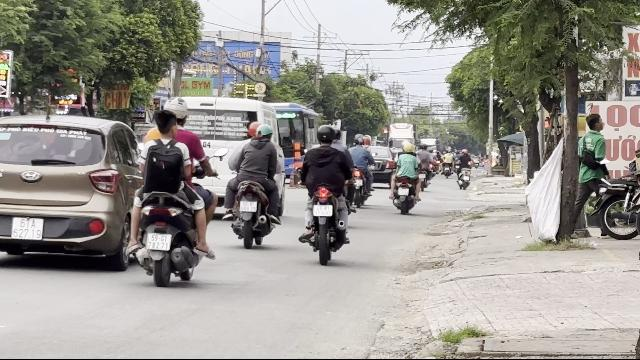helmet: (162, 98, 188, 127), (315, 125, 335, 145), (255, 122, 272, 140), (247, 121, 260, 139)
licenseplate: (146, 232, 172, 252), (314, 204, 332, 216), (240, 200, 256, 211)
motorcyclist: (120, 99, 216, 287), (296, 124, 354, 262), (222, 119, 284, 246)
nohelmet: (153, 110, 177, 138), (585, 112, 603, 132)
